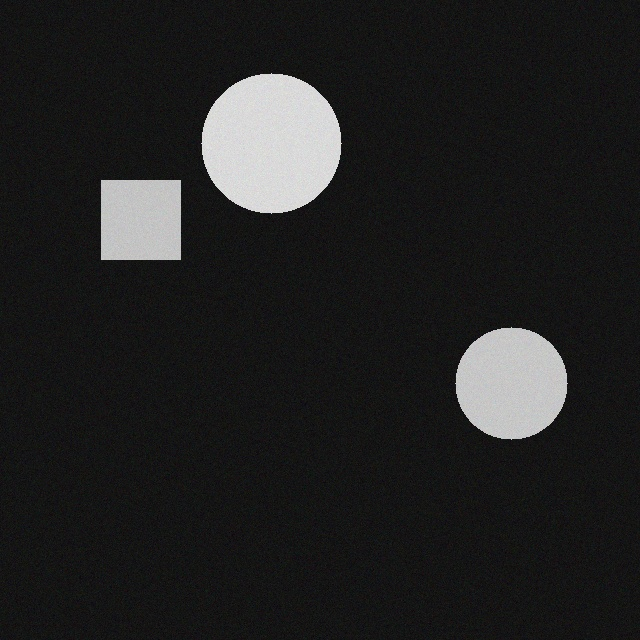circle: (208, 61, 348, 201), (462, 315, 574, 427)
square: (108, 168, 187, 247)
